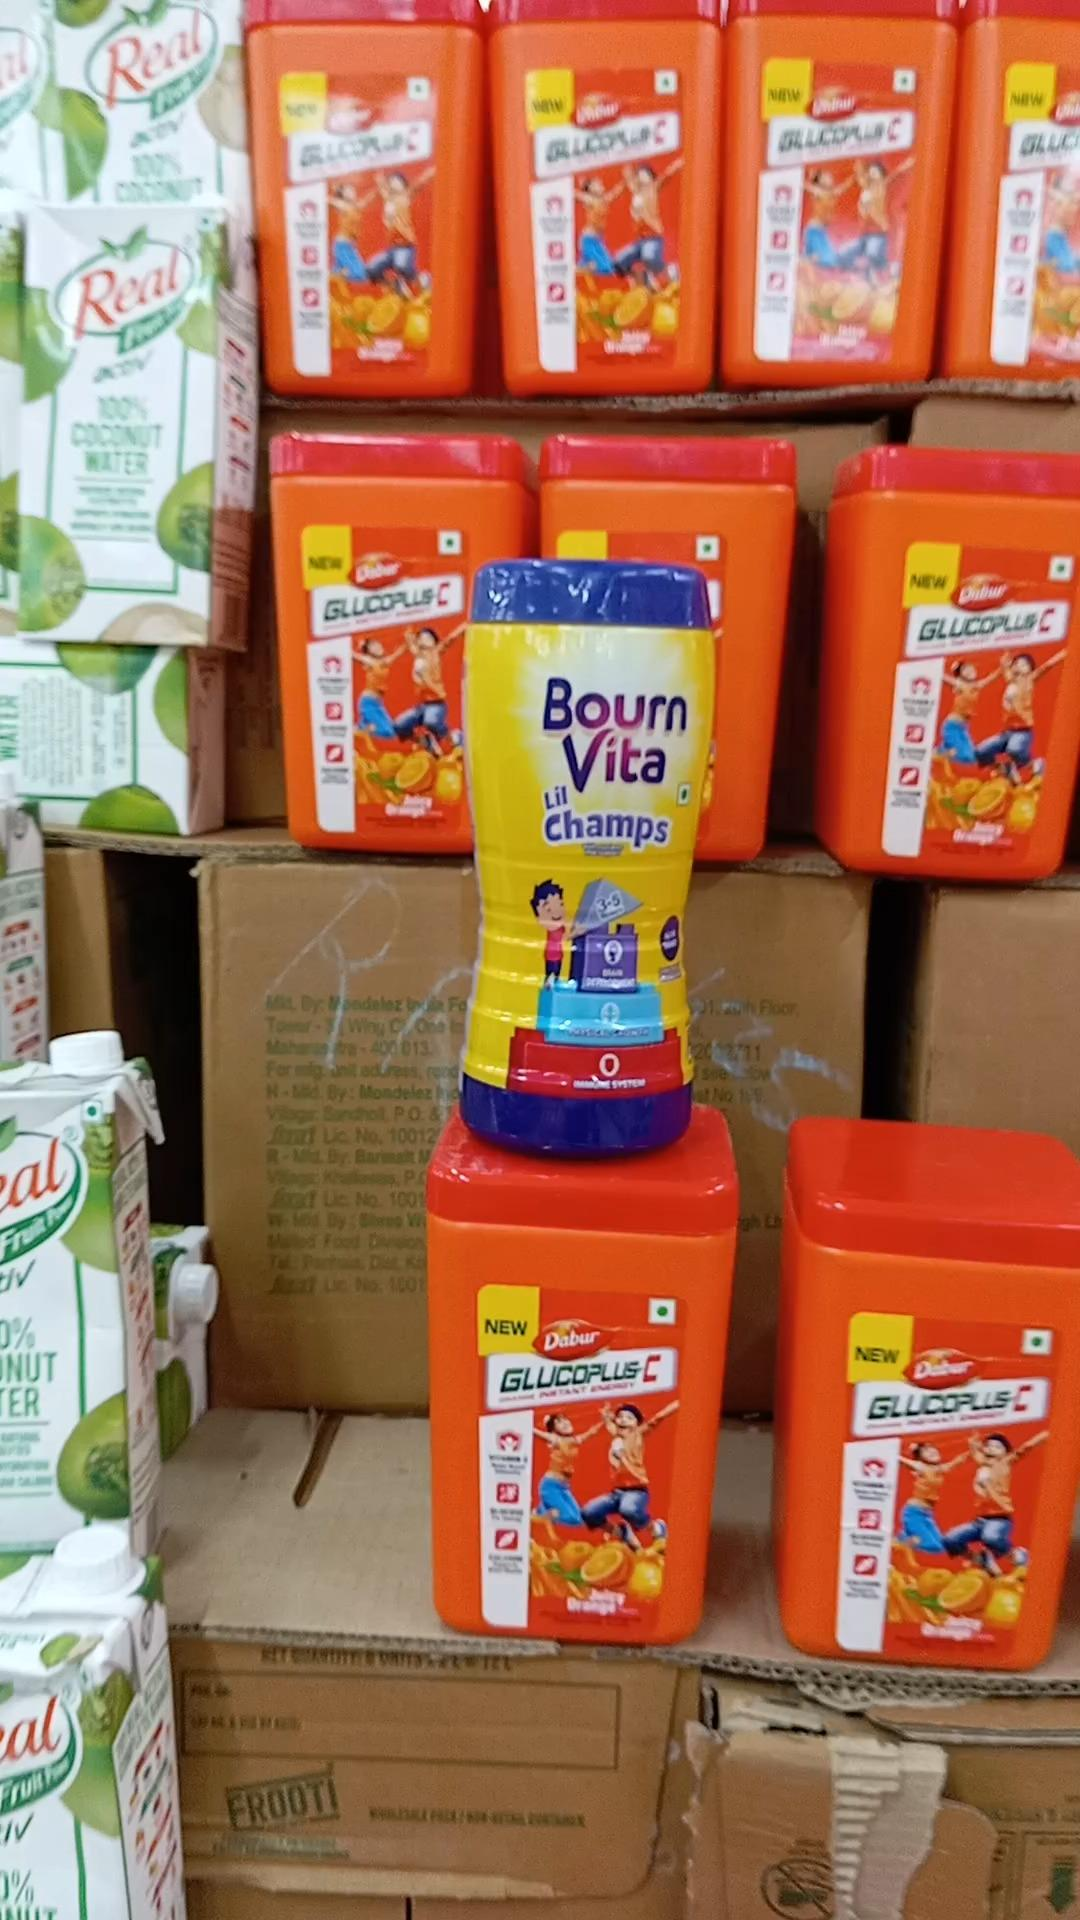BOURN_VITA_CHAMPS_500_G_JAR: (455, 556, 717, 1153)
